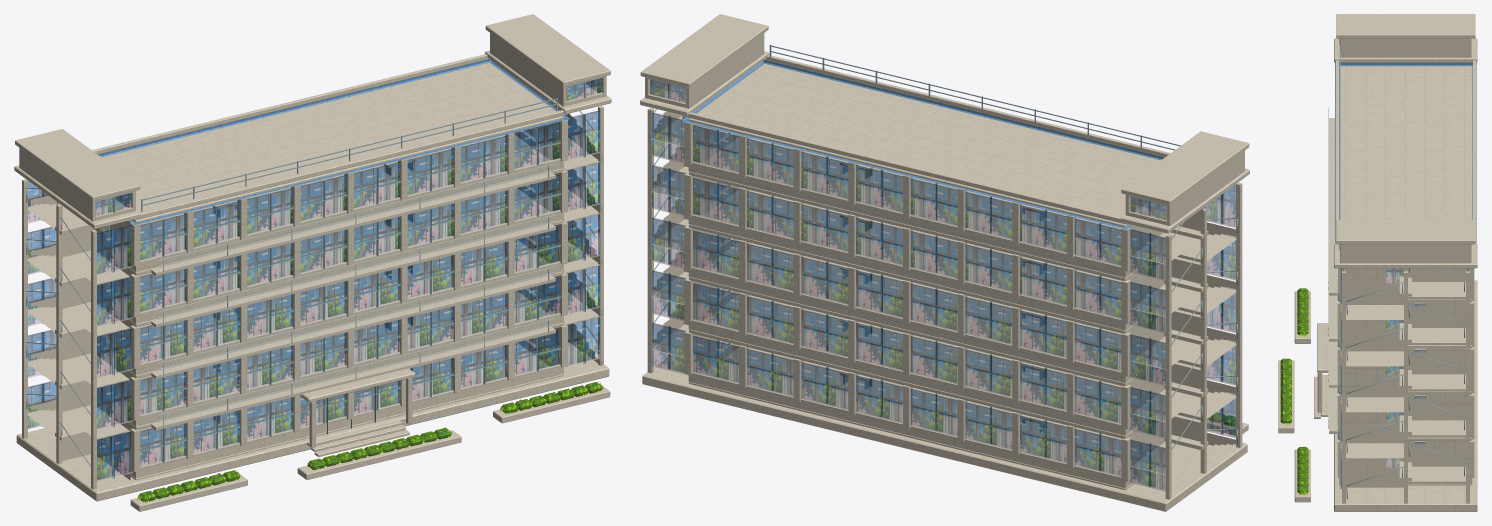
File: B03_teaching_v2.glb
3 renders of one model, left to right at view 1: azimuth 30°, elevation 25°; view 2: azimuth 150°, elevation 25°; view 3: azimuth 270°, elevation 25°, orthographic. The views are drawn at different scales.
Visible parts, largest first — view 1: GAME_V2_Pixel_limestone, GAME_V2_Glass_reflection, GAME_V2_Planter_stone, GAME_蓝灰窗框, GAME_V2_Silver_rail, GAME_V2_Dense_hedge, GAME_roof, GAME_V2_Tower_frame; view 2: GAME_V2_Pixel_limestone, GAME_V2_Glass_reflection, GAME_蓝灰窗框, GAME_roof, GAME_V2_Tower_frame; view 3: GAME_V2_Pixel_limestone, GAME_V2_Planter_stone, GAME_V2_Dense_hedge, GAME_V2_Tower_frame, GAME_roof, GAME_V2_Glass_reflection, GAME_蓝灰窗框, GAME_V2_Silver_rail.
Part boxes in pixels (left/top/right/bottom): GAME_V2_Pixel_limestone: left=14, top=14, right=611, bottom=501; GAME_V2_Glass_reflection: left=28, top=78, right=601, bottom=481; GAME_V2_Planter_stone: left=130, top=172, right=610, bottom=511; GAME_蓝灰窗框: left=41, top=114, right=585, bottom=478; GAME_V2_Silver_rail: left=157, top=163, right=555, bottom=426; GAME_V2_Dense_hedge: left=138, top=382, right=602, bottom=502; GAME_roof: left=98, top=59, right=570, bottom=225; GAME_V2_Tower_frame: left=25, top=82, right=597, bottom=466; GAME_V2_Pixel_limestone: left=640, top=14, right=1249, bottom=511; GAME_V2_Glass_reflection: left=650, top=79, right=1235, bottom=491; GAME_蓝灰窗框: left=668, top=115, right=1222, bottom=487; GAME_roof: left=682, top=60, right=1164, bottom=229; GAME_V2_Tower_frame: left=654, top=44, right=1238, bottom=449; GAME_V2_Pixel_limestone: left=1314, top=14, right=1477, bottom=511; GAME_V2_Planter_stone: left=1278, top=118, right=1337, bottom=502; GAME_V2_Dense_hedge: left=1280, top=288, right=1308, bottom=493; GAME_V2_Tower_frame: left=1339, top=38, right=1465, bottom=499; GAME_roof: left=1335, top=62, right=1476, bottom=243; GAME_V2_Glass_reflection: left=1342, top=268, right=1469, bottom=467; GAME_蓝灰窗框: left=1338, top=268, right=1468, bottom=489; GAME_V2_Silver_rail: left=1328, top=107, right=1328, bottom=428.
Size of the model in its own units: 24.25 by 13.61 by 9.02.
Materials: 10 (7 with a texture image).
